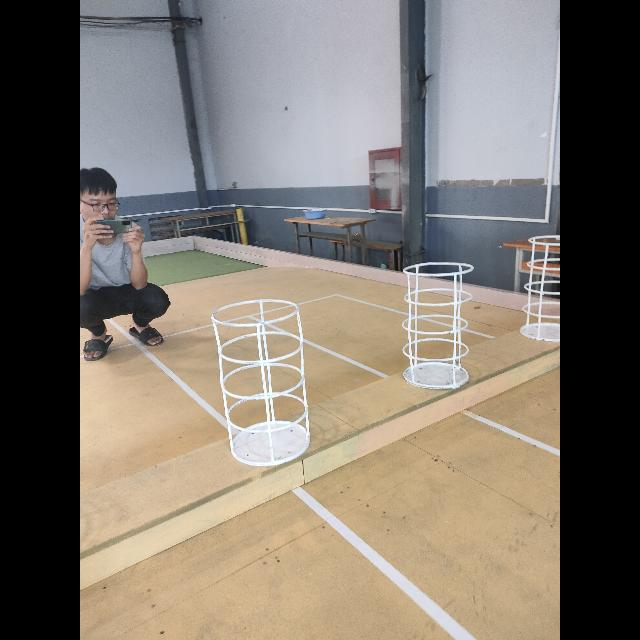S: (212, 300, 310, 469), (402, 261, 473, 391), (520, 235, 559, 344)
